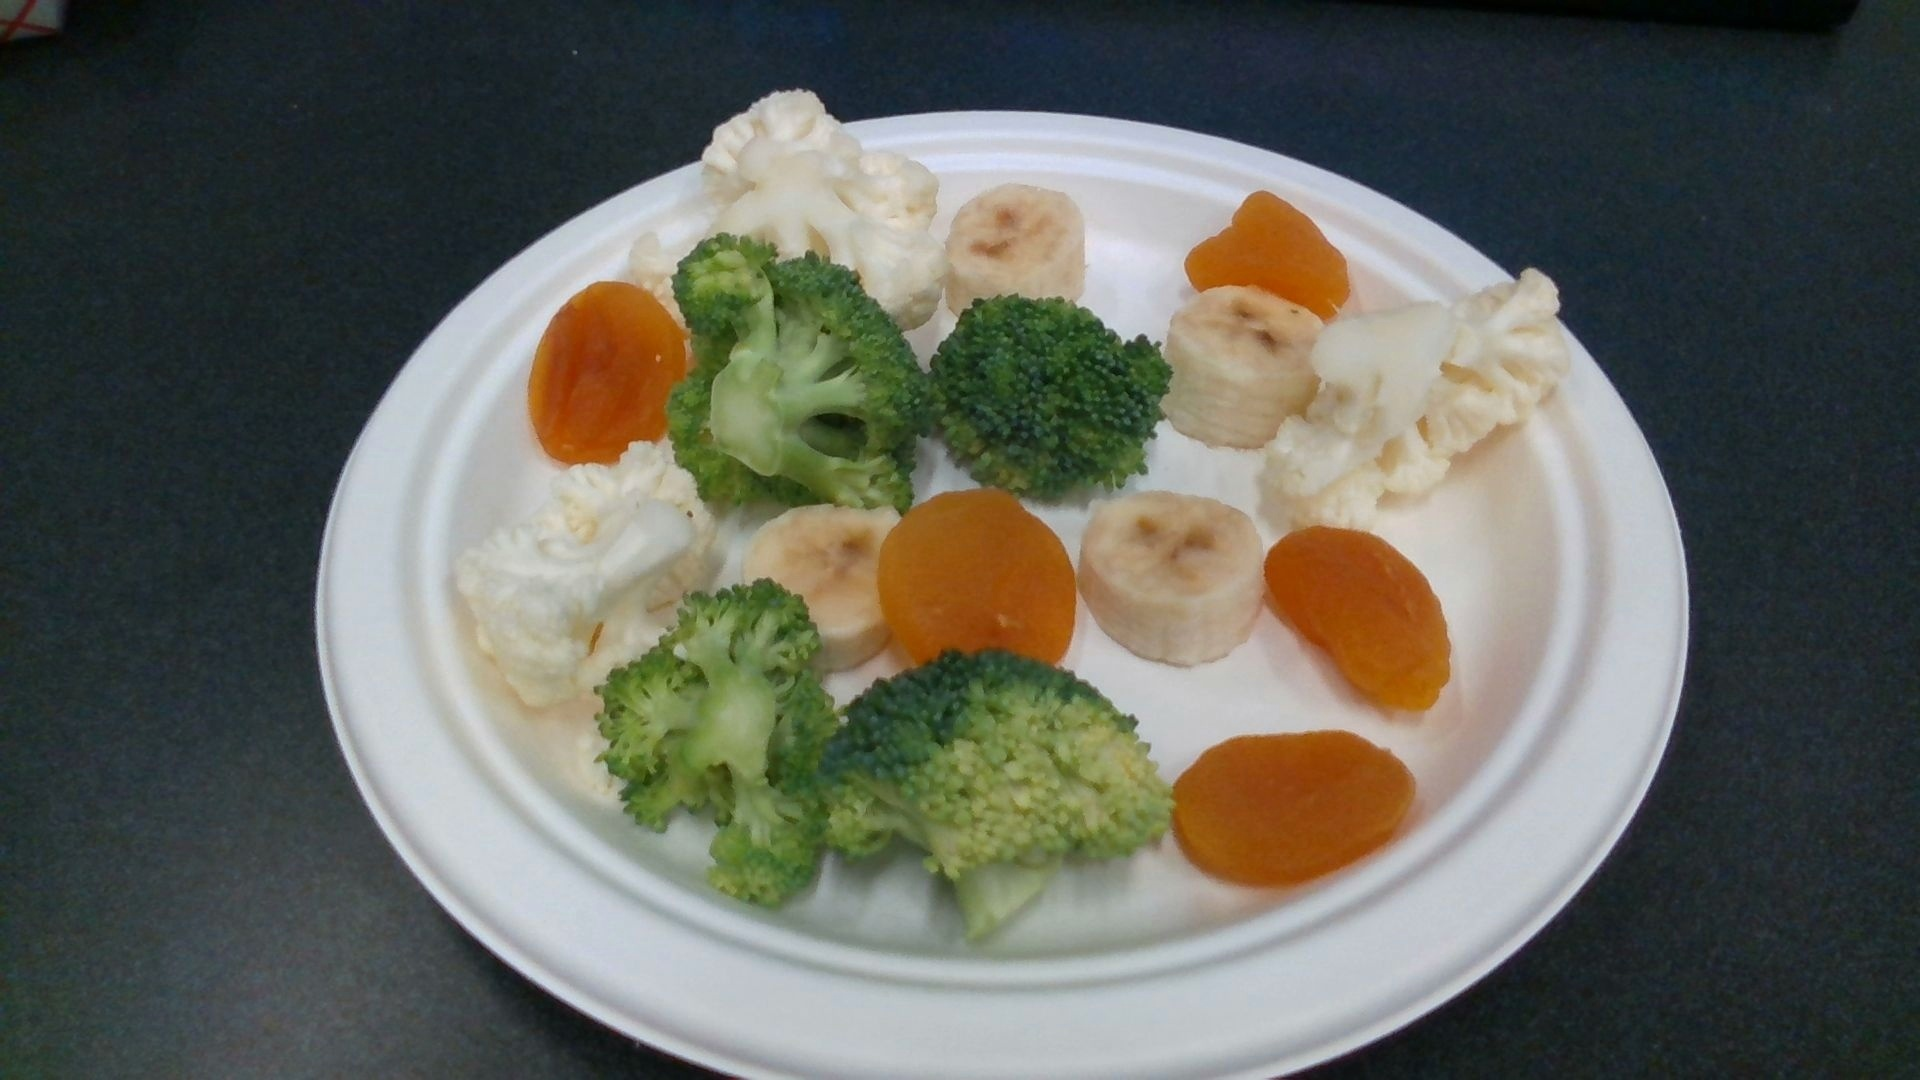apricot: (1178, 733, 1418, 887), (880, 491, 1077, 676), (1265, 524, 1452, 711), (529, 284, 682, 465), (1187, 193, 1352, 318)
banana: (1080, 496, 1265, 666), (742, 501, 899, 669), (1167, 286, 1323, 448), (944, 189, 1089, 306)
broccoli: (829, 653, 1168, 938), (589, 580, 839, 906), (673, 236, 920, 512), (924, 301, 1170, 496)
cauliflower: (1257, 265, 1565, 521), (630, 88, 939, 323), (458, 444, 727, 703)
